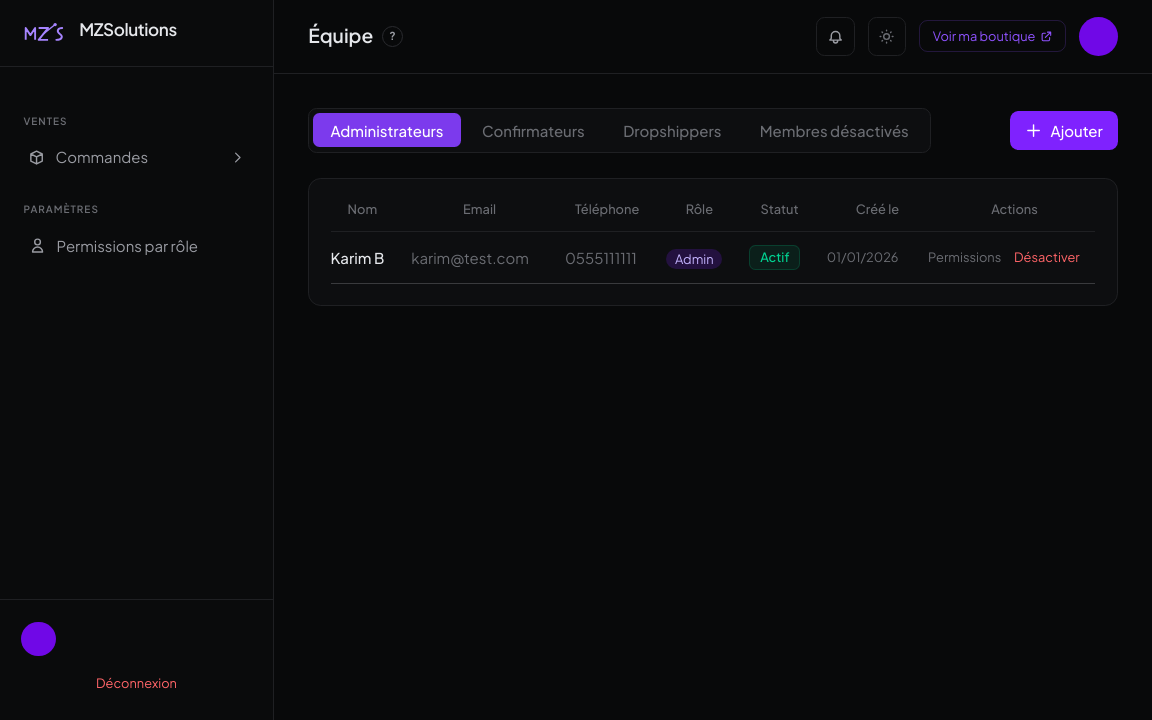
Test: TeamPage › switches to the Confirmateurs tab and fetches its members
The image size is (1152, 720).
Check: the text "Karim B" is shown, box x1=330 y1=231 x2=411 y2=284
Click the button "Confirmateurs" at (533,130), box x1=465 y1=113 x2=602 y2=147
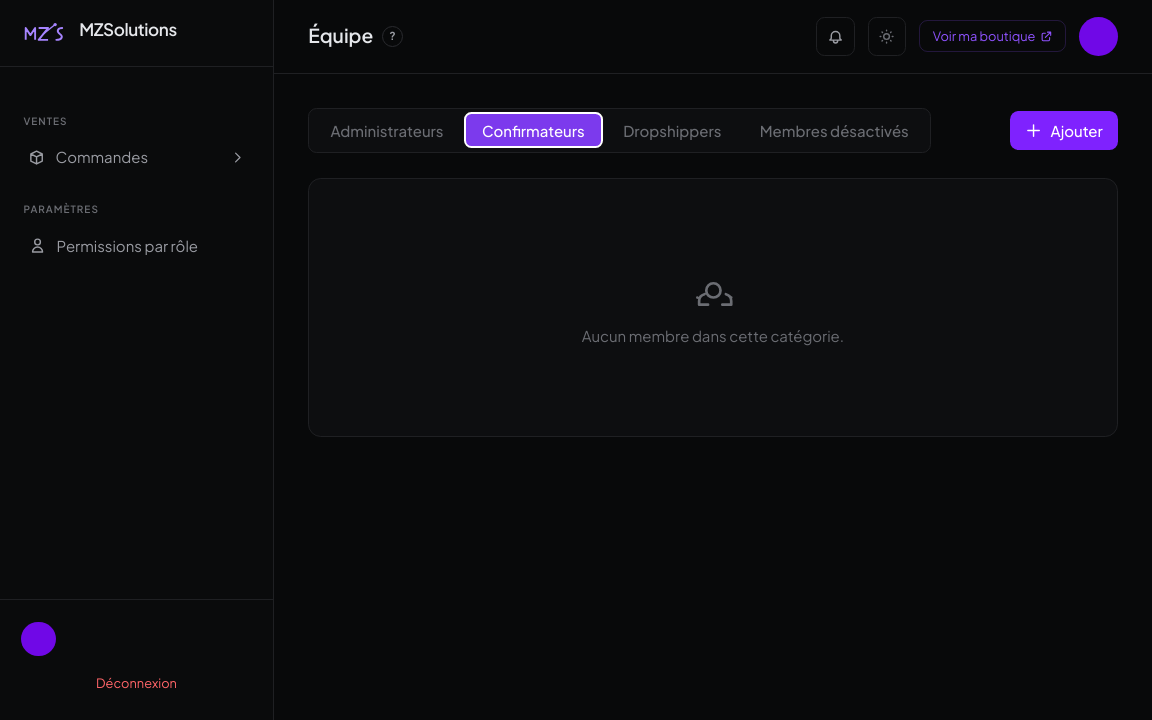
Check: the text "Aucun membre dans cette catégorie." is shown, box x1=582 y1=325 x2=844 y2=346
